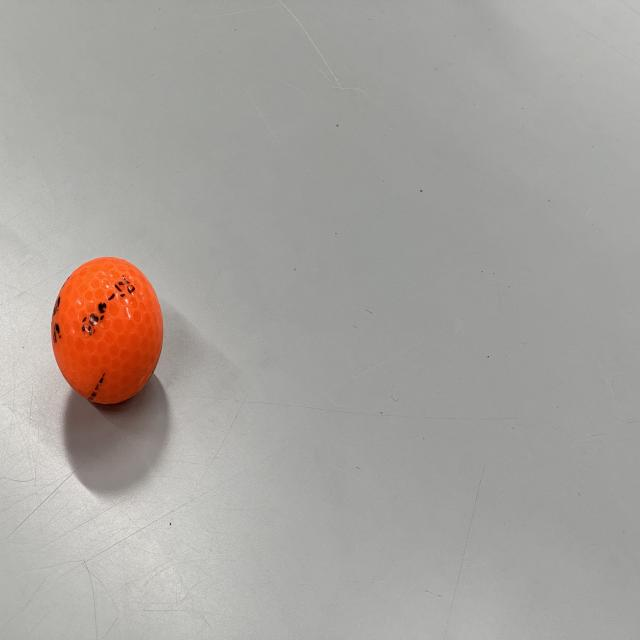ball: (44, 252, 168, 414)
